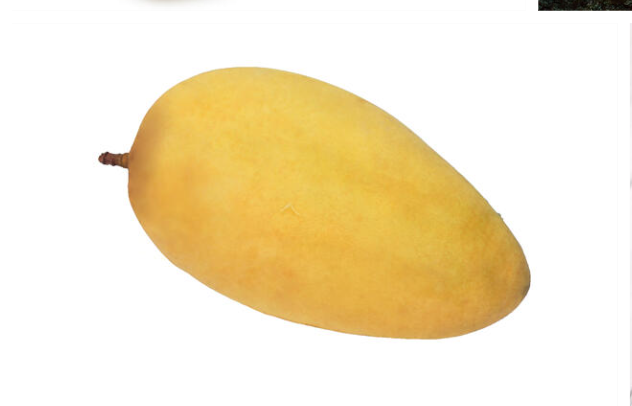mango: (127, 65, 533, 341)
